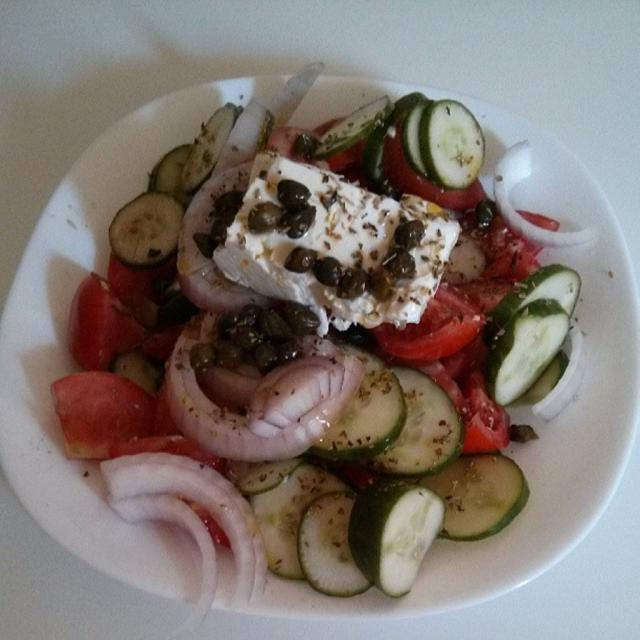Salad: (53, 58, 580, 632)
